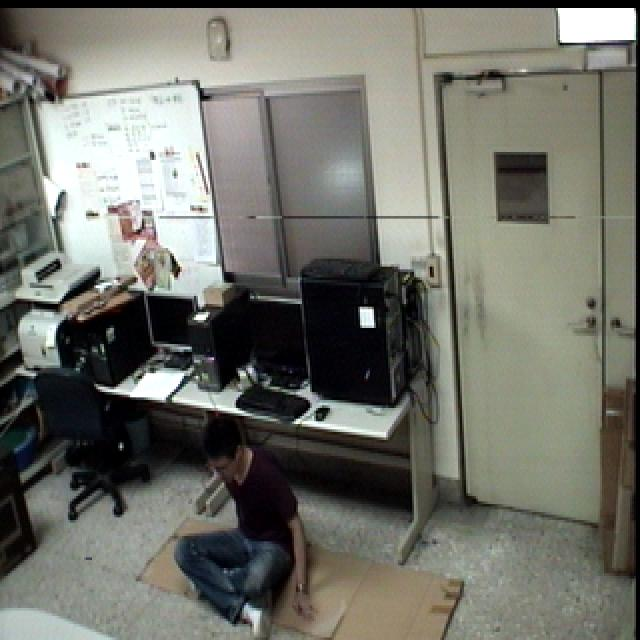sit: (166, 407, 323, 640)
